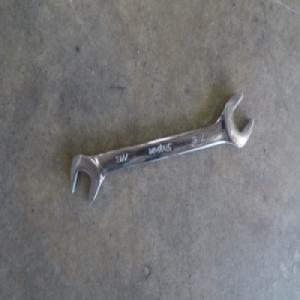Wrench: (70, 92, 253, 204)
